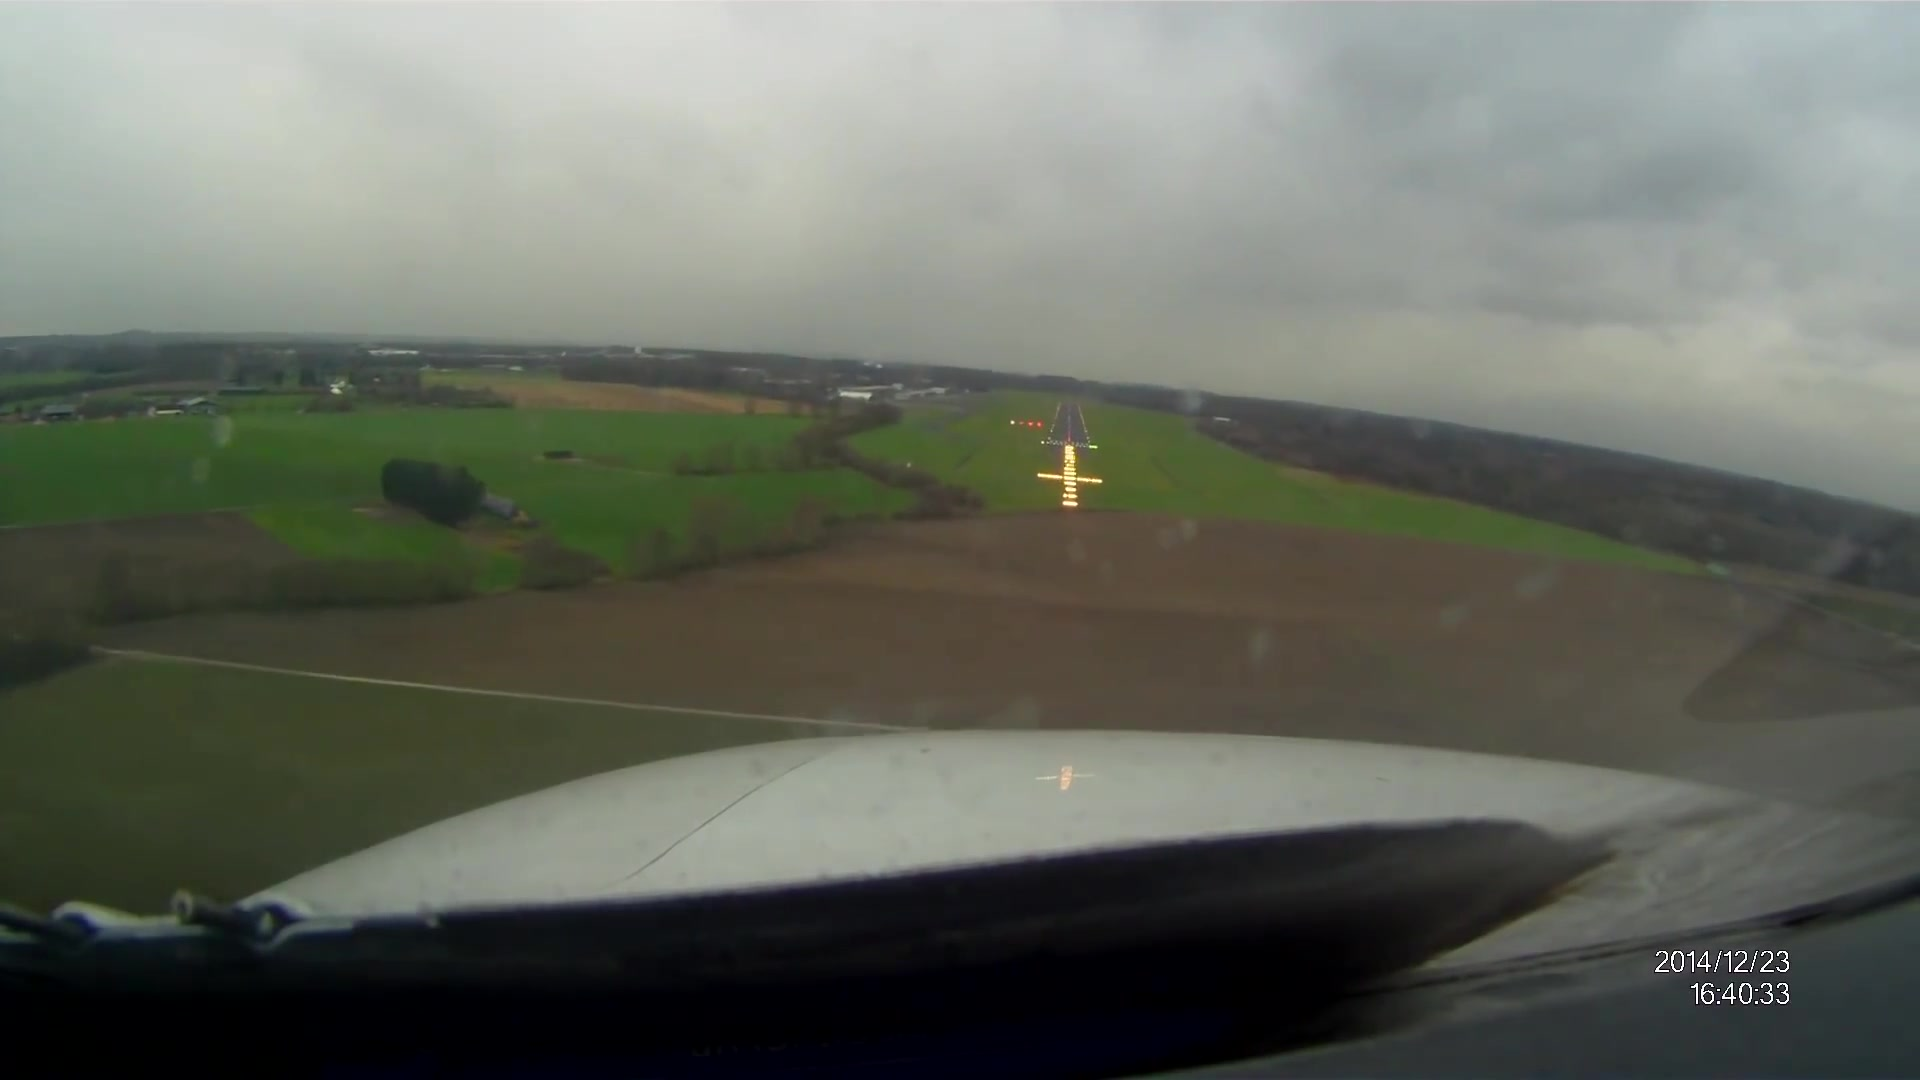entrance: (1048, 438, 1089, 448)
runway: (1044, 402, 1092, 451)
